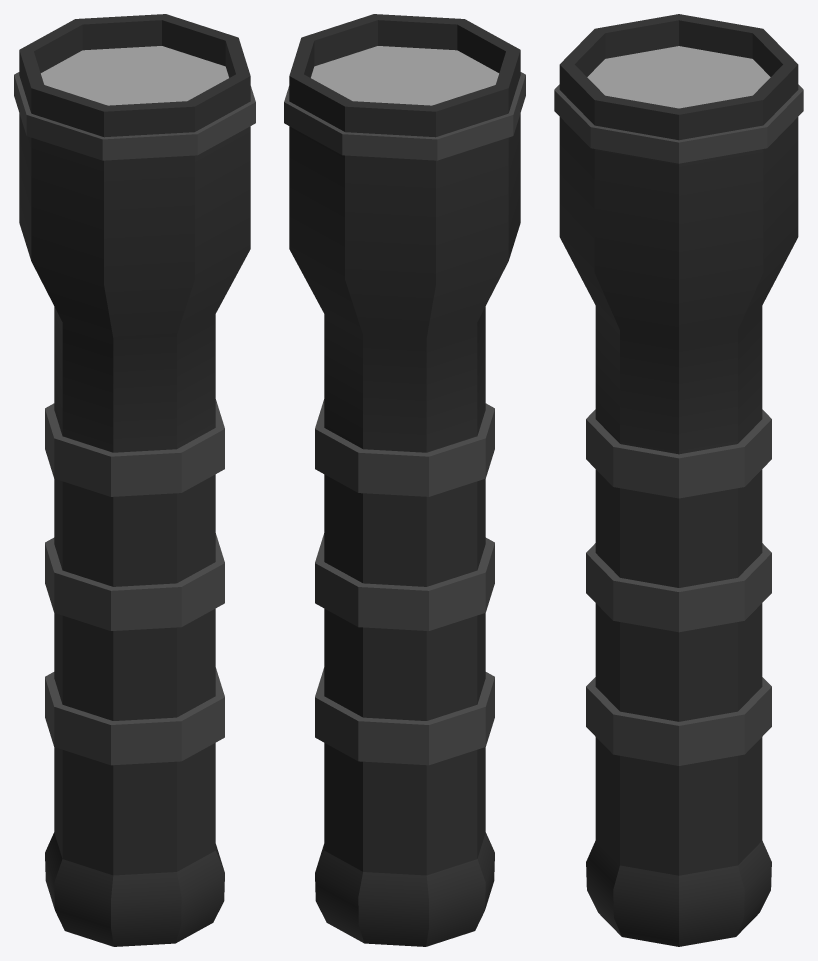
The model's file is Linterna.fbx.
The picture shows the model from 3 angles, left to right: view 1: azimuth 30°, elevation 25°; view 2: azimuth 150°, elevation 25°; view 3: azimuth 270°, elevation 25°; orthographic projection.
Visible parts, largest first — view 1: Linterna; view 2: Linterna; view 3: Linterna.
Part boxes in pixels (x1,y1,x2,y2): Linterna: [14, 14, 255, 946]; Linterna: [284, 14, 525, 946]; Linterna: [554, 14, 803, 946].
Bounding box in the file's own units: 5.99 × 22.45 × 5.99.
